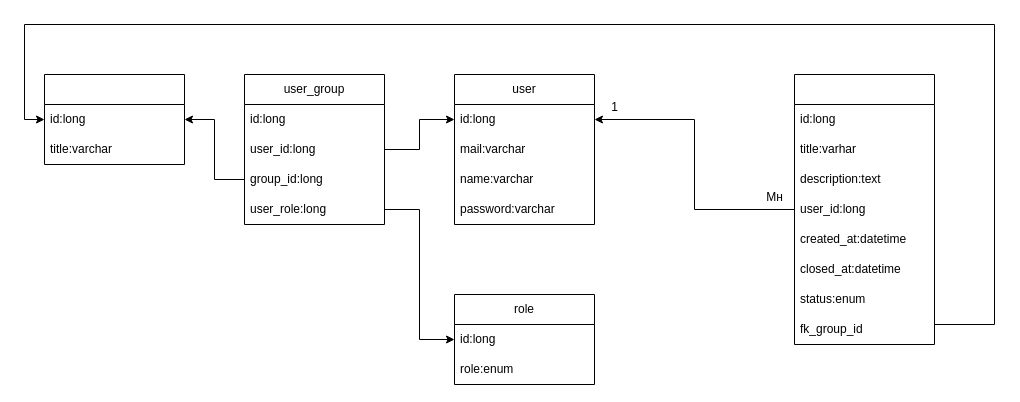
Image size: 1020x402. Some labels were removed from this diagram. Each missing label, with the box of its shape:
group: (44, 74, 184, 164)
task: (794, 74, 934, 344)
